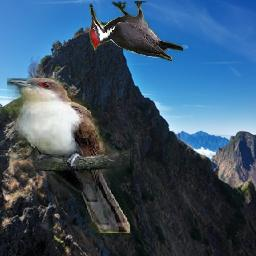Cuckoo: (8, 79, 131, 234)
Woodpecker: (89, 1, 183, 61)
